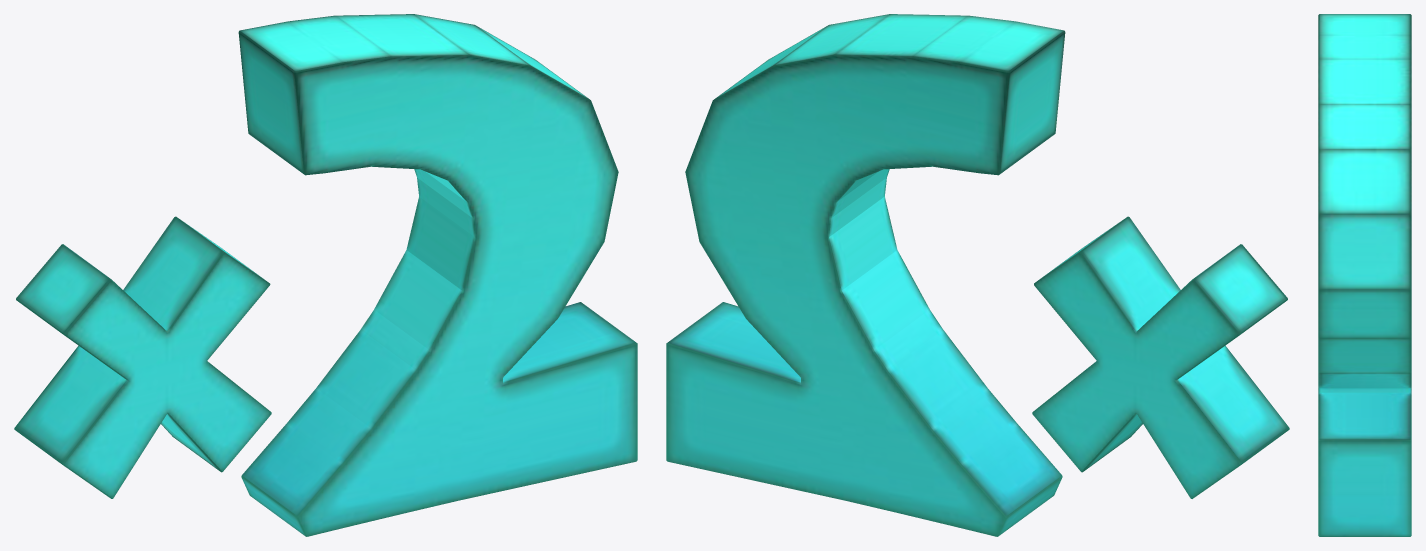
3 views of the same model, side by side, from view 1: azimuth 30°, elevation 25°; view 2: azimuth 150°, elevation 25°; view 3: azimuth 270°, elevation 25° (orthographic). The views are drawn at different scales.
Parts seen in each view (by area): view 1: x2; view 2: x2; view 3: x2.
Boxes of the visible parts, x1,y1,x2,y2 form: x2: [14, 14, 637, 536]; x2: [666, 14, 1289, 536]; x2: [1318, 14, 1411, 536].
Size of the model in its own units: 4.37 by 3.46 by 0.7553.
1 material, 1 textured.
